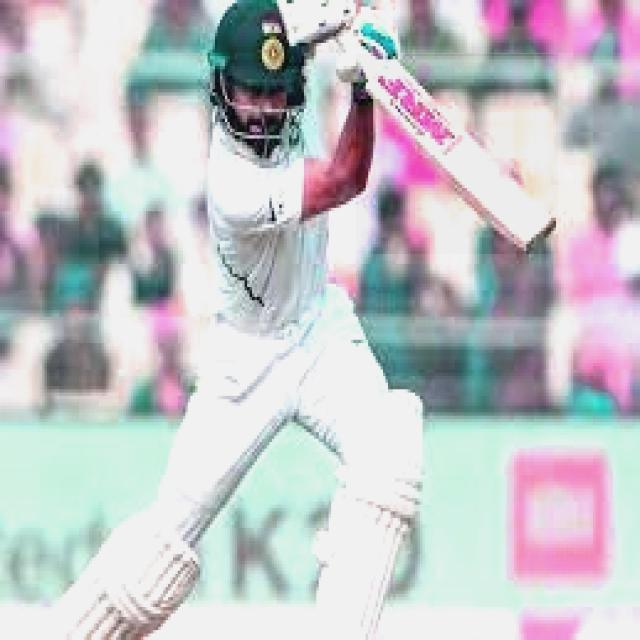bat: (370, 58, 557, 253)
toe: (516, 225, 555, 253)
